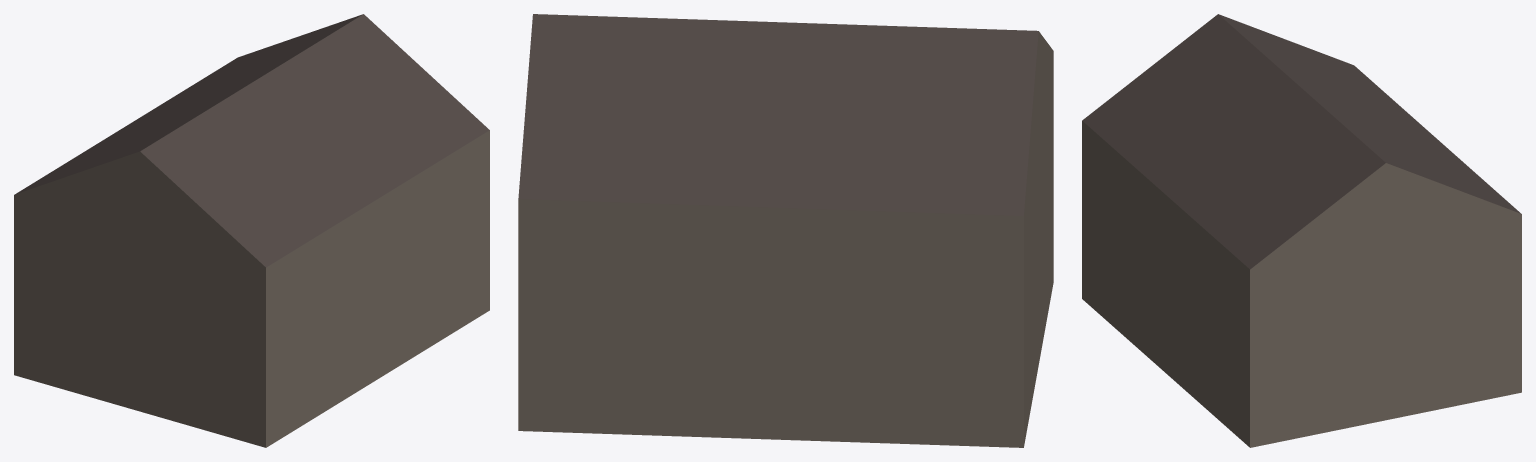
The picture shows the model from 3 angles, left to right: view 1: azimuth 30°, elevation 25°; view 2: azimuth 150°, elevation 25°; view 3: azimuth 270°, elevation 25°; orthographic projection. The views are drawn at different scales.
Parts seen in each view (by area): view 1: HP-w1287936342; view 2: HP-w1287936342; view 3: HP-w1287936342.
Boxes of the visible parts, bbox=[...] form: HP-w1287936342: bbox=[14, 14, 489, 447]; HP-w1287936342: bbox=[518, 14, 1053, 447]; HP-w1287936342: bbox=[1082, 14, 1521, 447].
Bounding box in the file's own units: 14.73 × 8.66 × 13.4.
